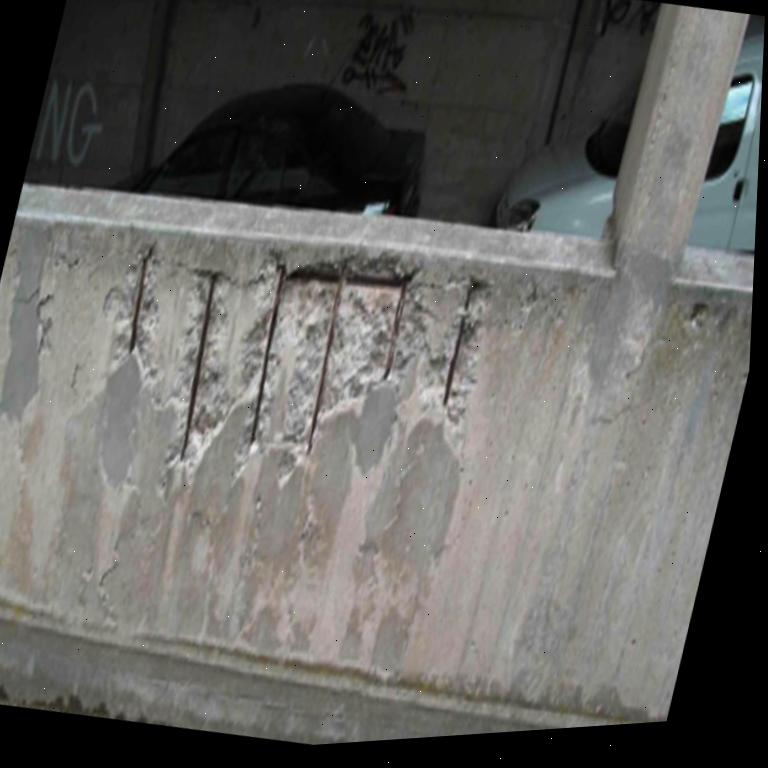exposed_rebar: (306, 270, 347, 453), (180, 274, 218, 460), (249, 265, 286, 444), (441, 280, 481, 407), (382, 279, 409, 380), (129, 248, 152, 353)
spalling: (126, 244, 489, 460)
